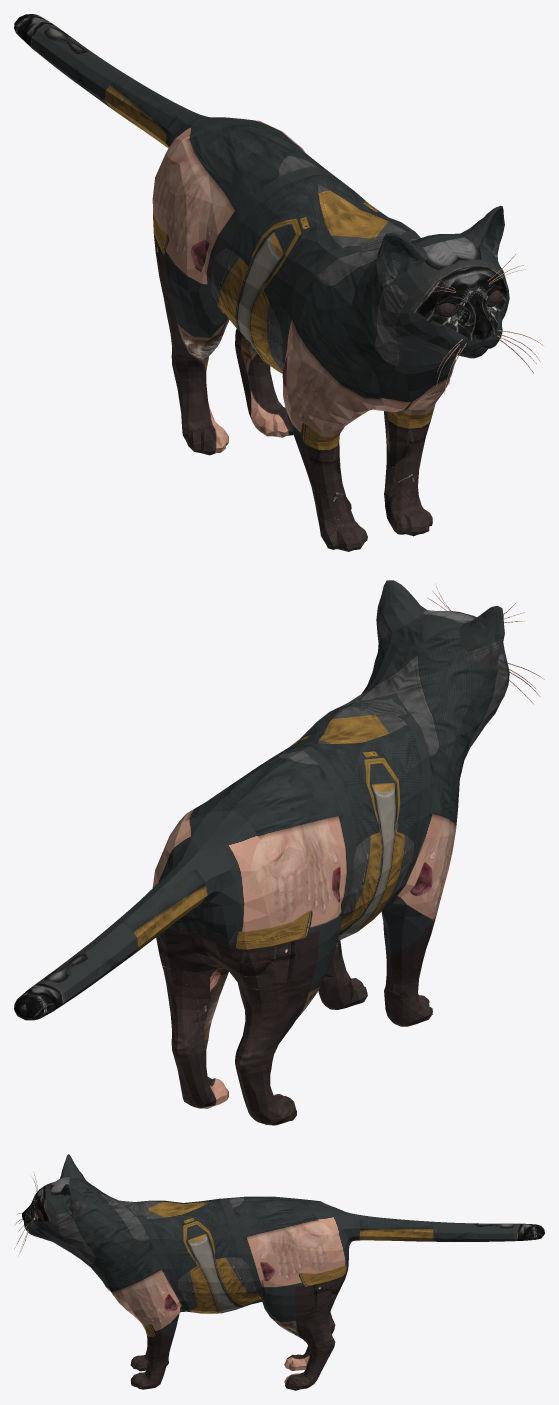
The model's file is cat.dae.
3 views of the same model, one above another, from view 1: azimuth 30°, elevation 25°; view 2: azimuth 150°, elevation 25°; view 3: azimuth 270°, elevation 25° (orthographic). The views are drawn at different scales.
Parts seen in each view (by area): view 1: Component; view 2: Component; view 3: Component.
Part boxes in pixels (x1=…): Component: x1=14, y1=14, x2=509, y2=551; Component: x1=14, y1=580, x2=509, y2=1125; Component: x1=22, y1=1154, x2=544, y2=1390.
Size of the model in its own units: 7.22 by 38.51 by 16.66.
